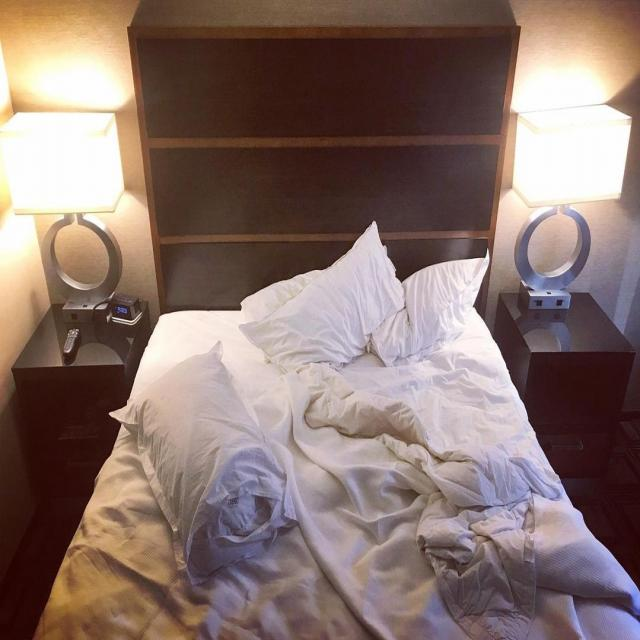bed: (6, 220, 639, 640)
